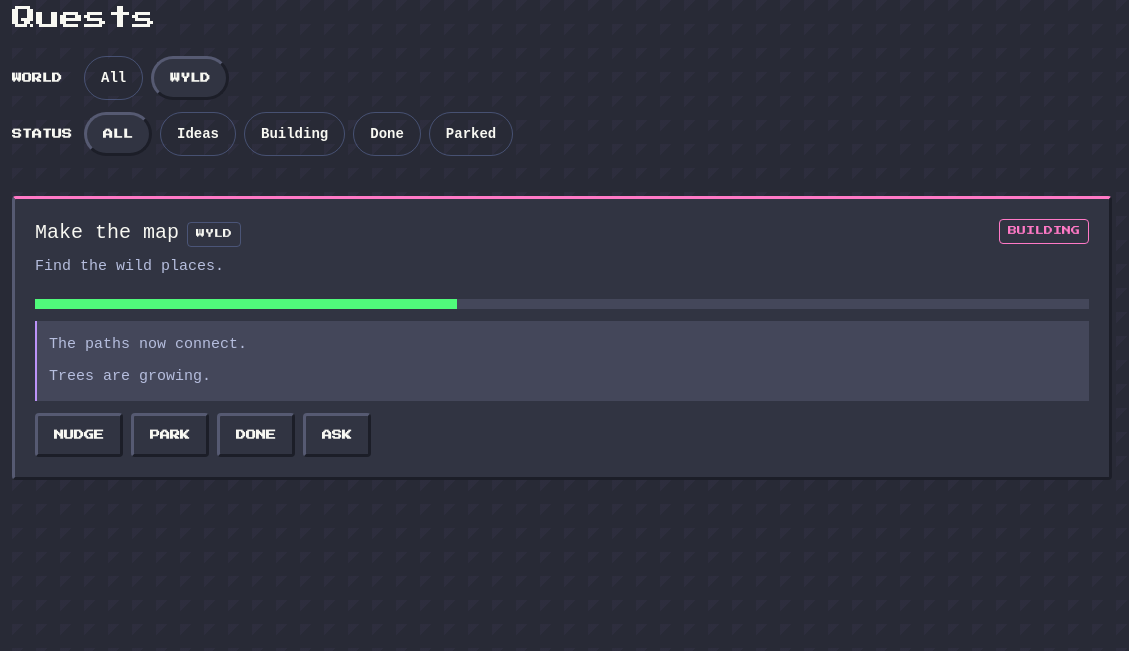
Test: Quests › starts a quest-targeted chain and renders it without old note history
The width and height of the screenshot is (1129, 651).
Click the button "Ask".
click(337, 435)  # box [303,413,371,457]
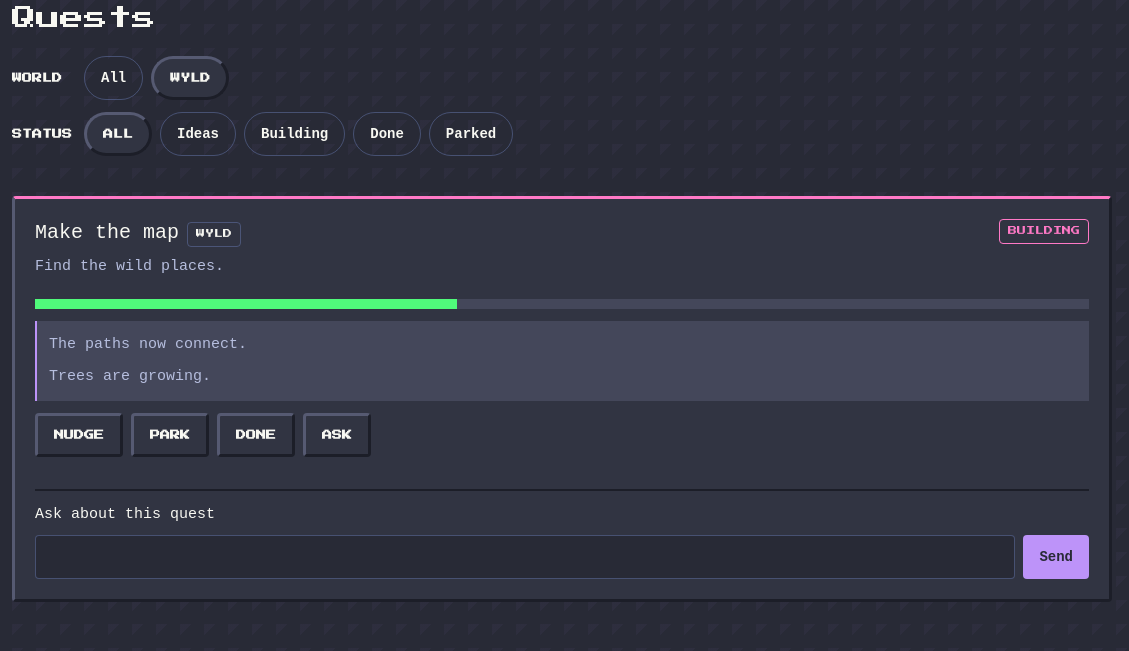
Type "Where next?" into the text box labelled "Ask about this quest".
click(525, 557); type("Where next?")  # box [35,535,1015,579]
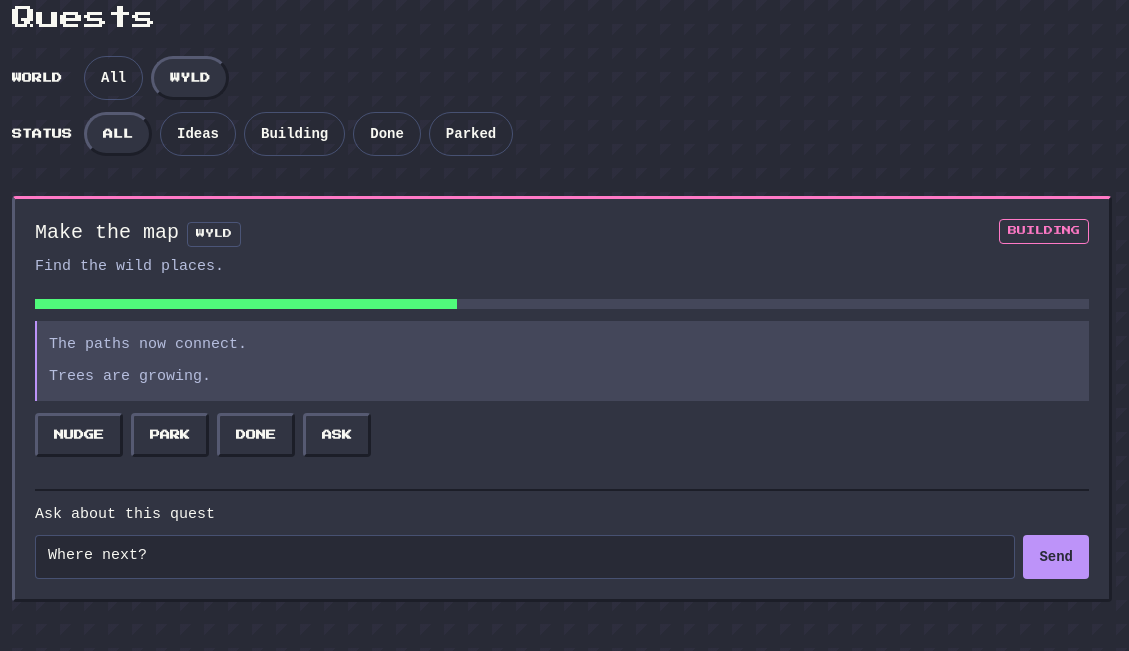
Press Enter in the text box labelled "Ask about this quest", box [35,535,1015,579]
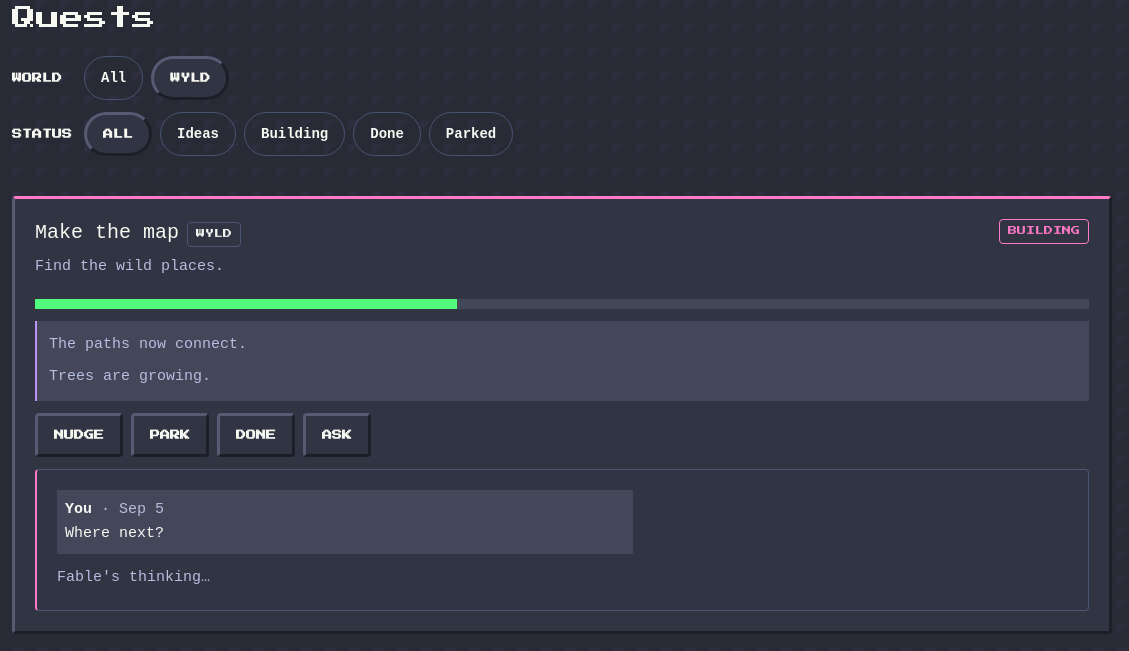
Check: the text "Where next?" is shown, box [65,525,164,542]
Check: the label labelled "Ask about this quest" is gone
